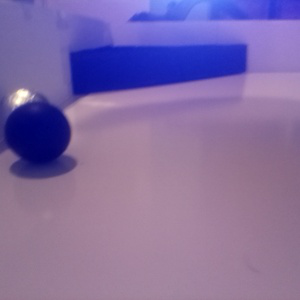alive_ball: (2, 88, 50, 136)
dead_ball: (4, 101, 70, 162)
